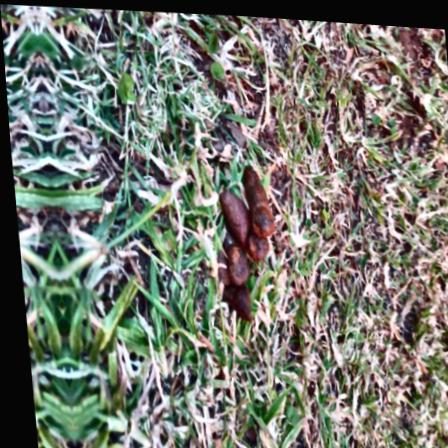dog-poop: (206, 166, 289, 321)
